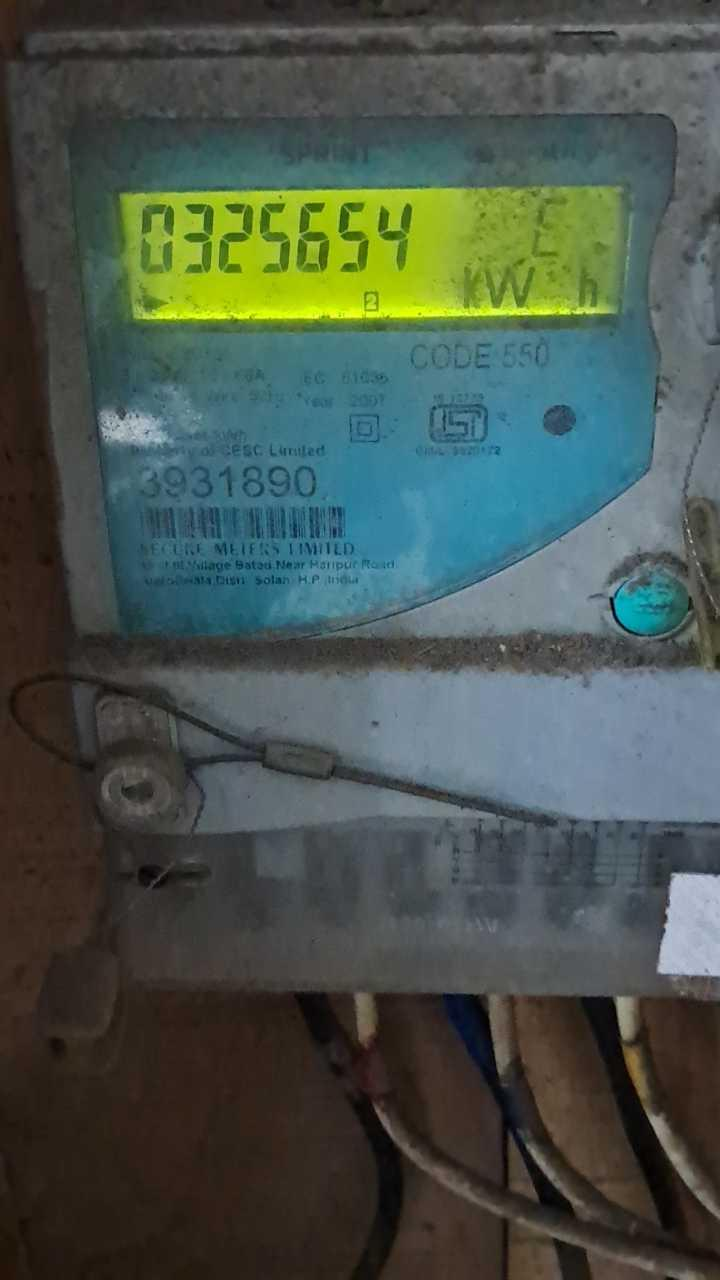meter_readings: (138, 196, 428, 284)
serial_number: (132, 463, 319, 501)
